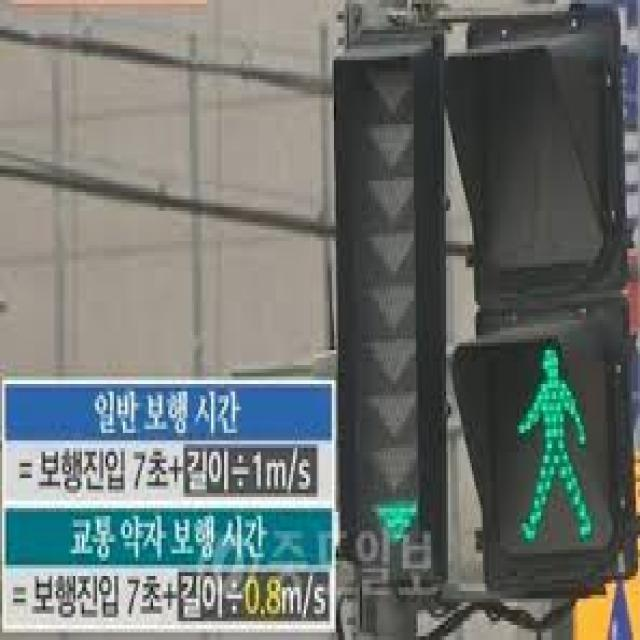greenlight: (452, 17, 630, 586)
